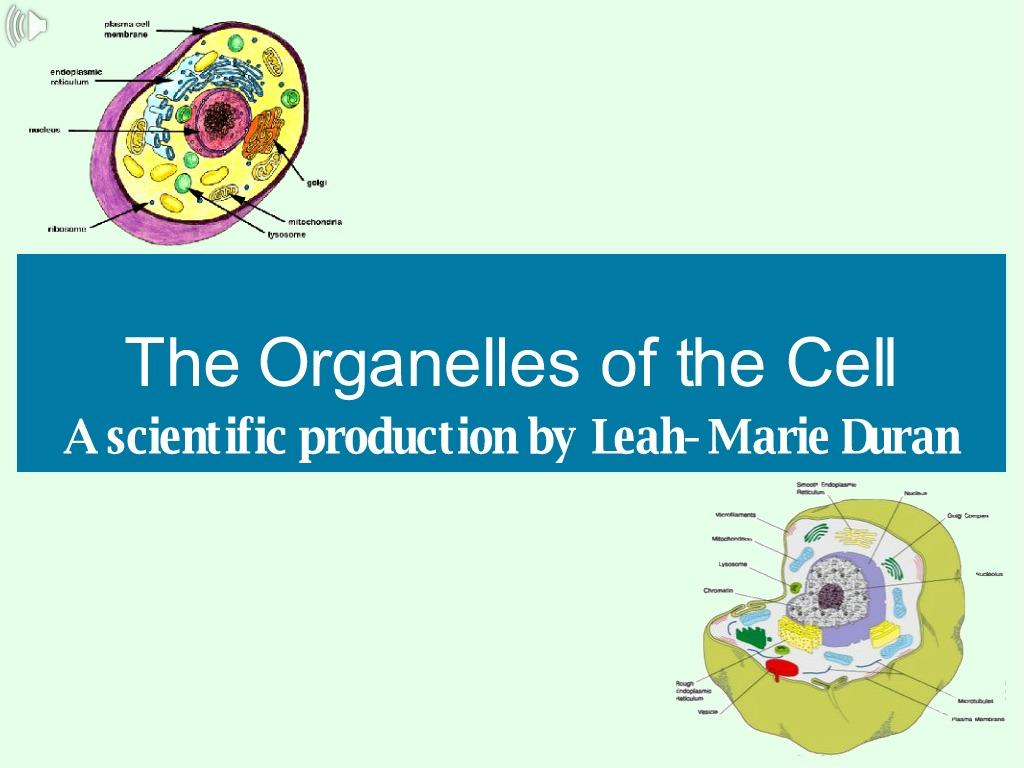title: (53, 303, 979, 469)
